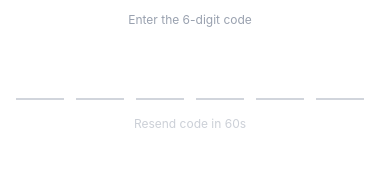
Test: auto-fills all boxes when a 6-digit number is pasted
Click the 1st field at (40, 72), box [16,44,64,100]
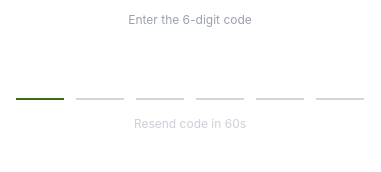
Type keys "123456"
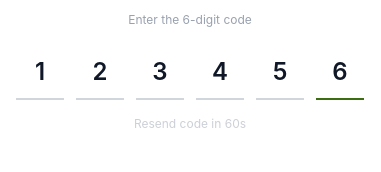
Expected: the 1st field holds "1", [16,44,64,100]
Expected: the 2nd field holds "2", [76,44,124,100]
Expected: the 3rd field holds "3", [136,44,184,100]
